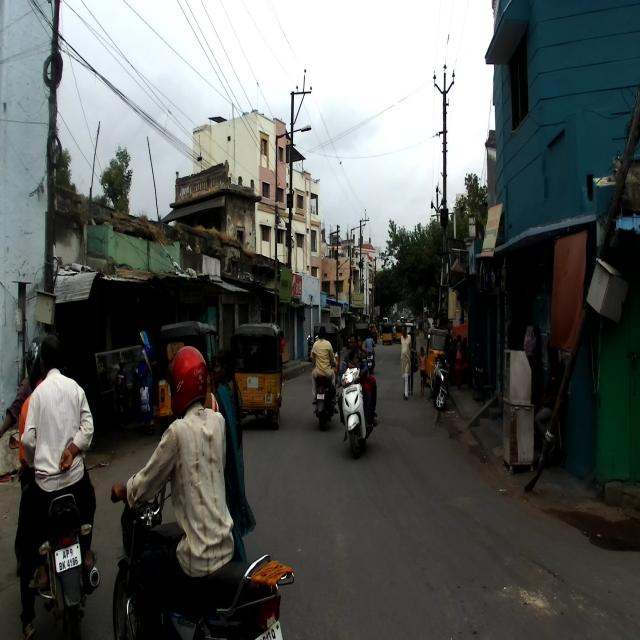autorickshaw: (158, 317, 220, 440), (230, 320, 284, 430)
motorcycle_Hero: (110, 480, 295, 639)
motorcycle_Yamaha: (311, 352, 338, 432)
motorcycle_bajaj: (11, 427, 101, 637)
scooter: (338, 356, 377, 459)
